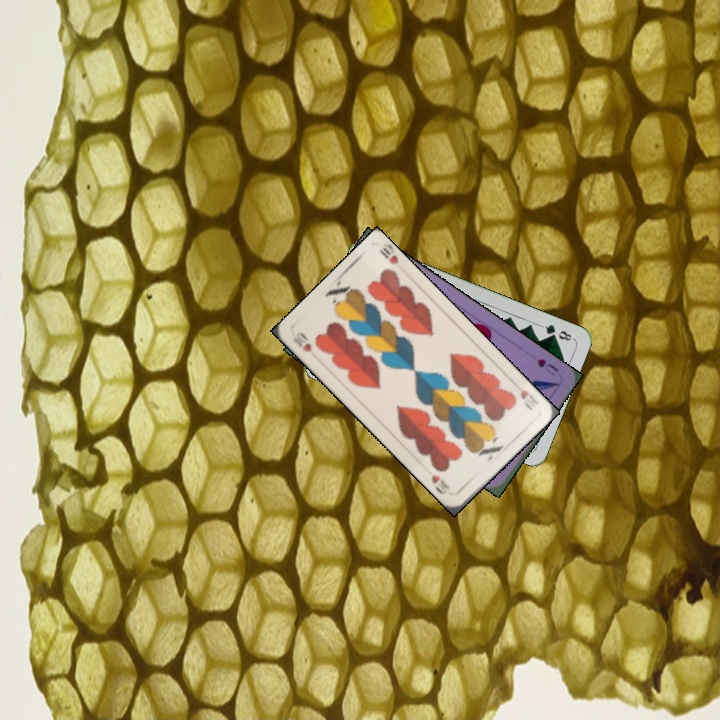G8: (537, 320, 576, 343)
H10: (509, 378, 541, 413), (288, 328, 314, 355)
HU: (533, 355, 561, 379)
